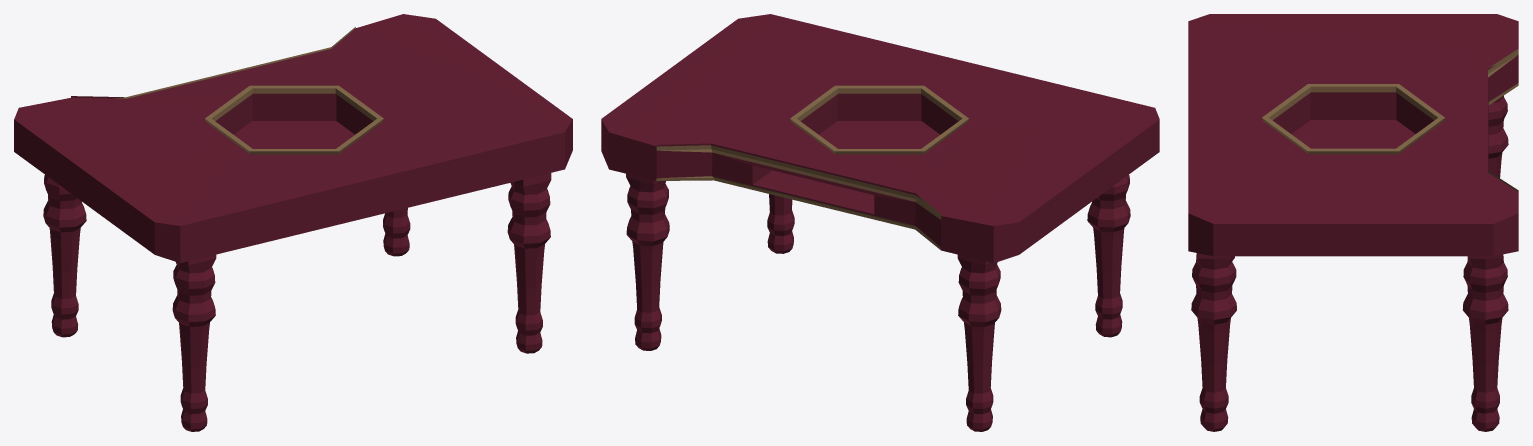
File: Table 1.fbx
The picture shows the model from 3 angles, left to right: view 1: azimuth 30°, elevation 25°; view 2: azimuth 150°, elevation 25°; view 3: azimuth 270°, elevation 25°; orthographic projection. The views are drawn at different scales.
Parts seen in each view (by area): view 1: Table; view 2: Table; view 3: Table.
Boxes of the visible parts, <box> form: Table: <box>14,14,572,431</box>; Table: <box>601,14,1159,431</box>; Table: <box>1188,14,1518,431</box>.
Bounding box in the file's own units: 1500 × 757 × 1000.
